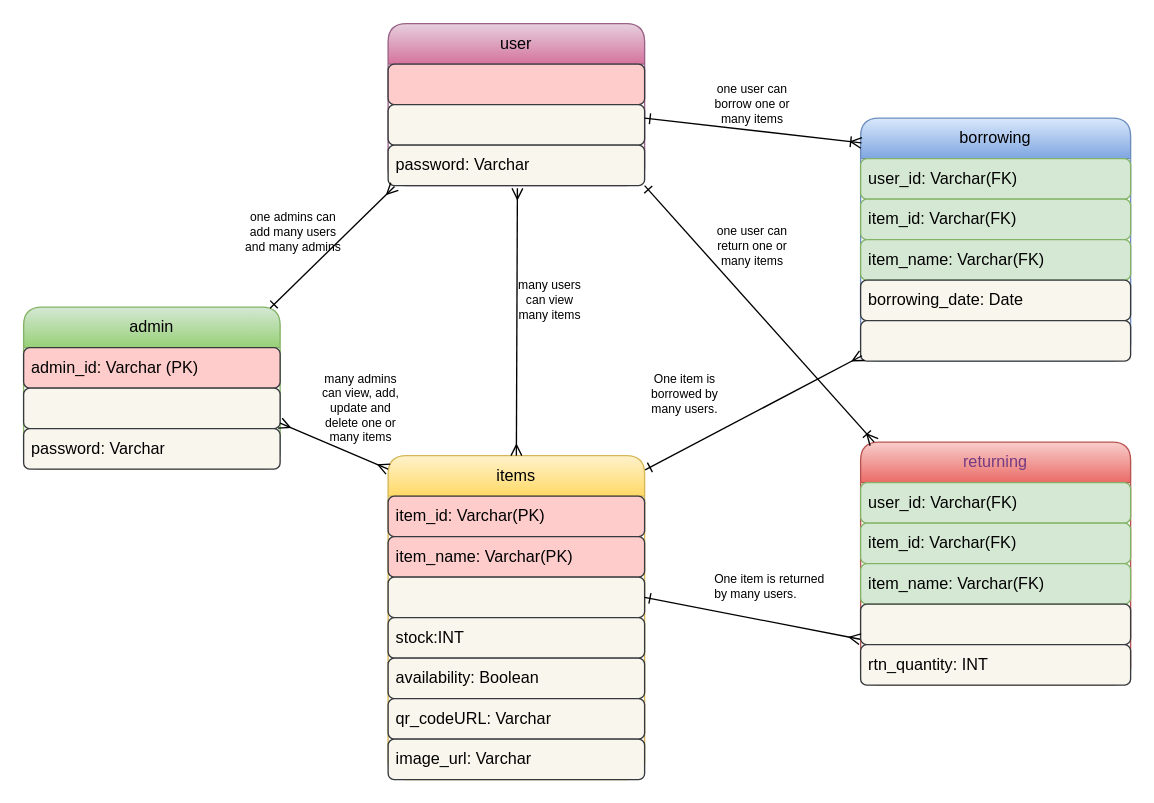
The diagram is 1154 pixels wide and 803 high, and some of its shapes have lost their labels. Here are the shapes that lost their labels. From the top down, the centre of each, then its label:
At [516,84]: "user_id: Varchar(PK)".
At [516,124]: "user_name: Varchar".
At [995,340]: "brw_quantity: INT".
At [151,408]: "admin_name: Varchar".
At [516,597]: "description: Text".
At [995,624]: "returning_date: Date".
